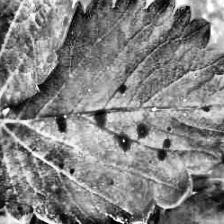Leaf Spot: (0, 0, 224, 224), (0, 0, 88, 112)
